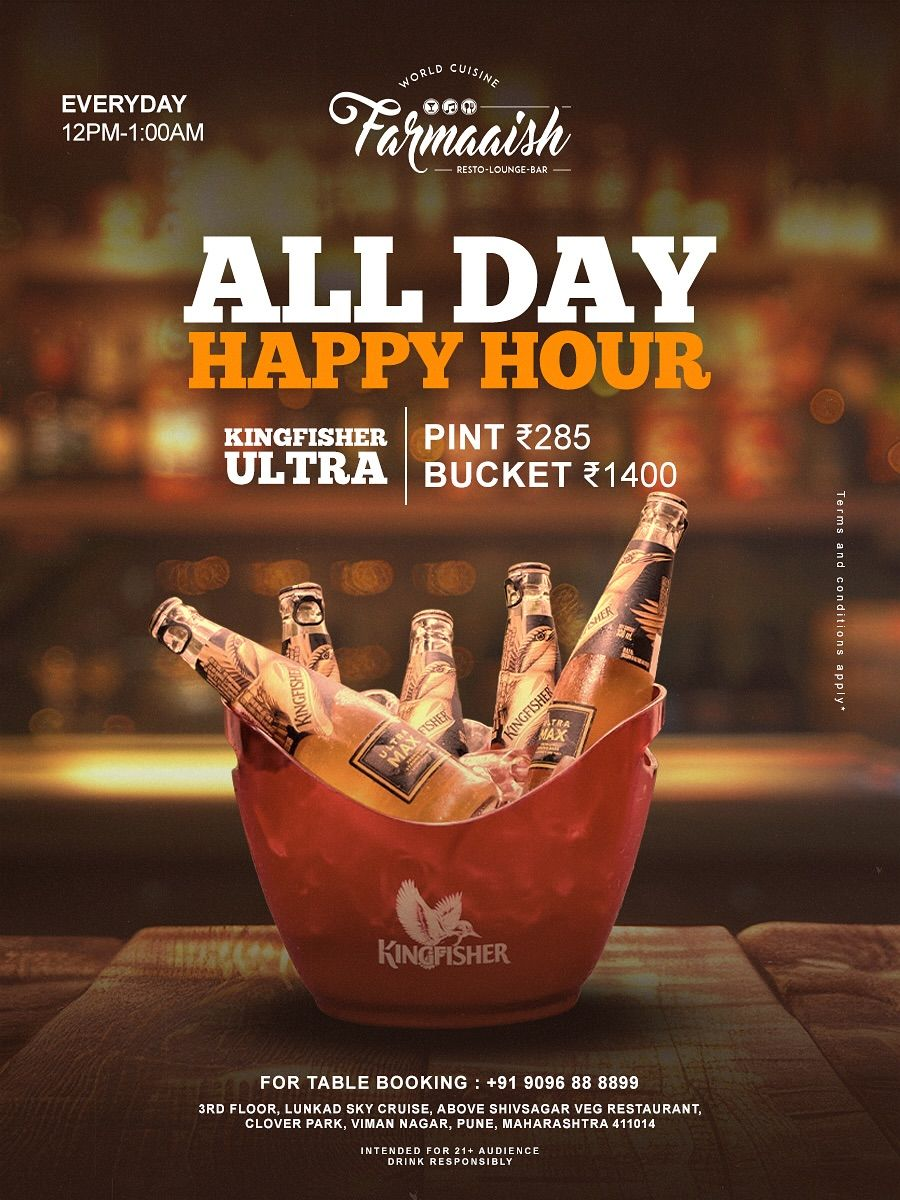CTA: (256, 1060, 648, 1094)
Headline: (186, 232, 753, 400)
Price: (410, 414, 684, 506)
Product: (136, 496, 736, 1036)
logo: (314, 36, 591, 191)
